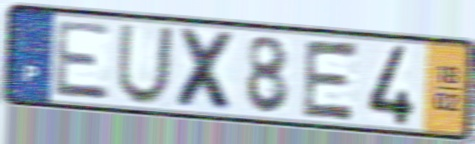4: (365, 42, 419, 128)
8: (245, 33, 293, 117)
E: (298, 37, 363, 124), (51, 18, 114, 103)
U: (113, 22, 177, 108)
X: (173, 24, 240, 115)
